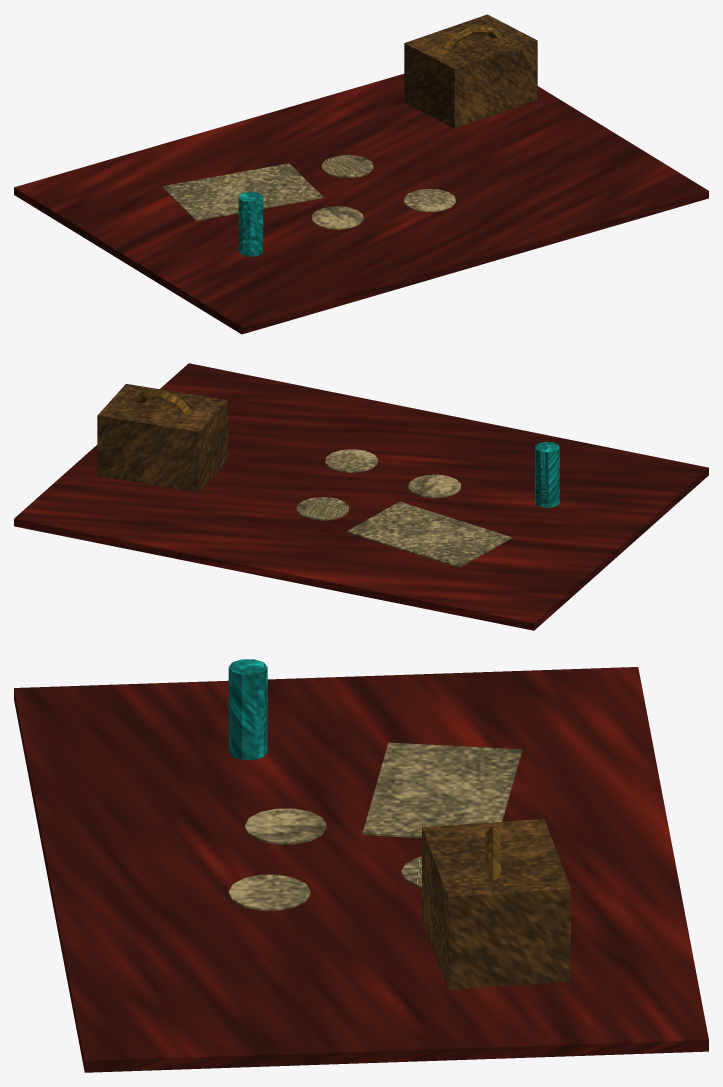
File: east-picnic-blanket.glb
3 renders of one model, top to bottom at view 1: azimuth 30°, elevation 25°; view 2: azimuth 150°, elevation 25°; view 3: azimuth 270°, elevation 25°, orthographic. The views are drawn at different scales.
Visible parts, largest first — view 1: east-picnic-blanket; view 2: east-picnic-blanket; view 3: east-picnic-blanket.
Boxes of the visible parts, x1,y1,x2,y2 form: east-picnic-blanket: [14, 14, 708, 334]; east-picnic-blanket: [14, 363, 708, 630]; east-picnic-blanket: [14, 659, 708, 1072].
Bounding box in the file's own units: 8.64 × 1.64 × 6.44.
1 material, 1 textured.
